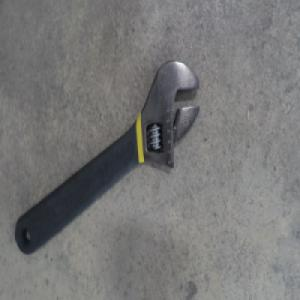AdjustableWrench: (14, 61, 199, 256)
